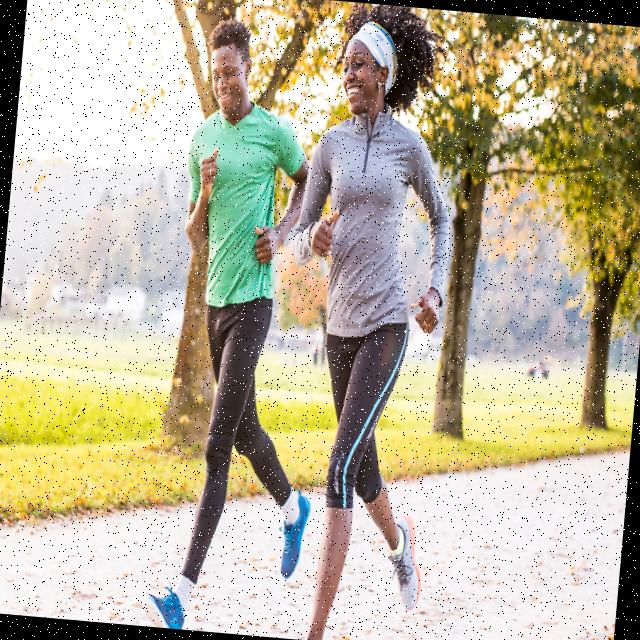Person: (259, 0, 471, 640), (145, 11, 353, 640)
